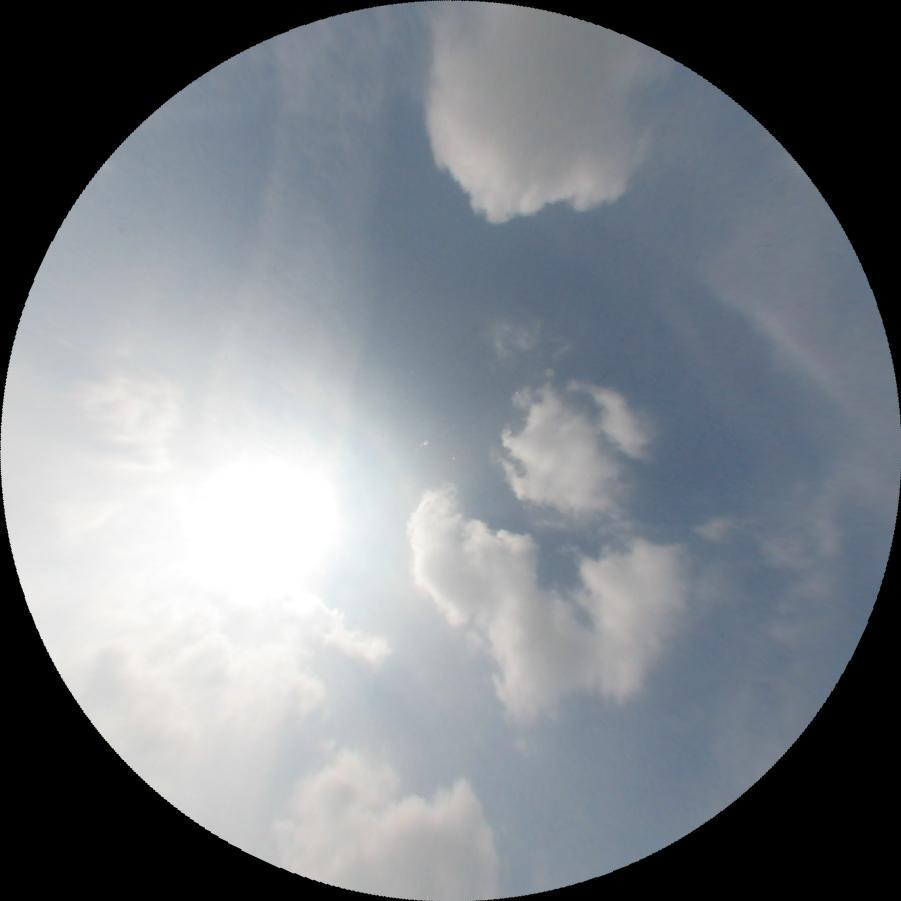sun: (169, 427, 356, 610)
